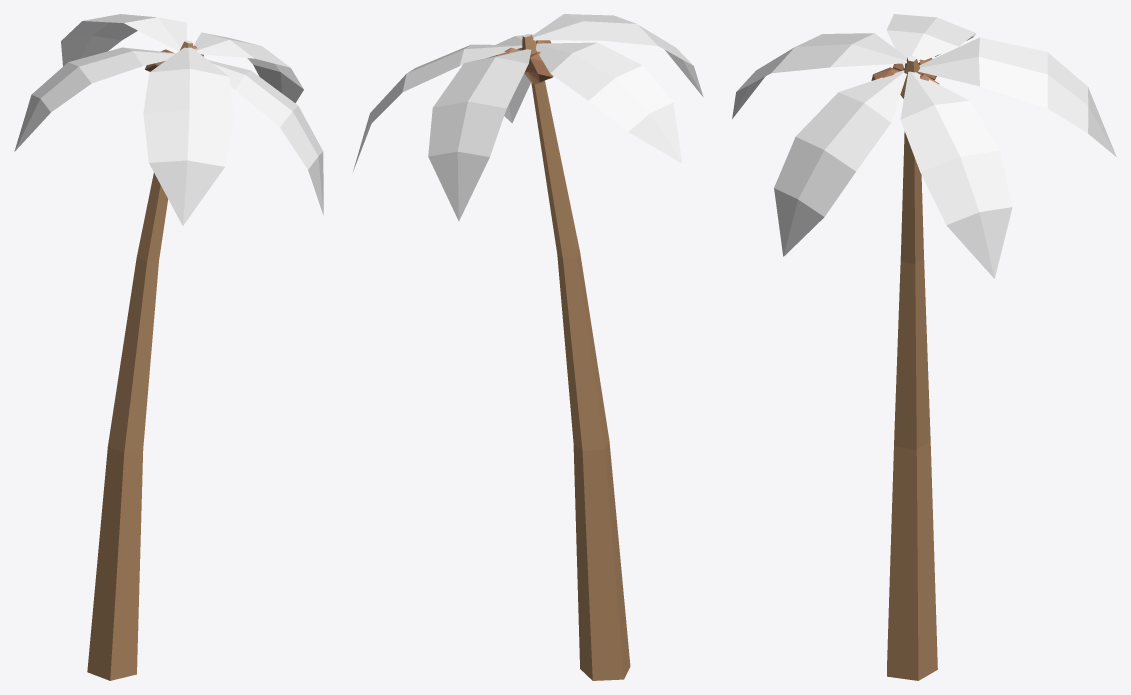
Rendered from Palm_Tree_Coconut_OneSided_s_Snow_02_LOD.fbx.
3 renders of one model, left to right at view 1: azimuth 30°, elevation 25°; view 2: azimuth 150°, elevation 25°; view 3: azimuth 270°, elevation 25°, orthographic. The views are drawn at different scales.
Visible parts, largest first — view 1: Palm_Tree_Coconut_OneSided_s_Snow_02_LOD0; view 2: Palm_Tree_Coconut_OneSided_s_Snow_02_LOD0; view 3: Palm_Tree_Coconut_OneSided_s_Snow_02_LOD0.
Boxes of the visible parts, x1,y1,x2,y2 form: Palm_Tree_Coconut_OneSided_s_Snow_02_LOD0: (14, 14, 323, 680); Palm_Tree_Coconut_OneSided_s_Snow_02_LOD0: (353, 14, 703, 680); Palm_Tree_Coconut_OneSided_s_Snow_02_LOD0: (732, 14, 1116, 680).
Size of what is drawn, in the model's own units: 243 by 478 by 255.
